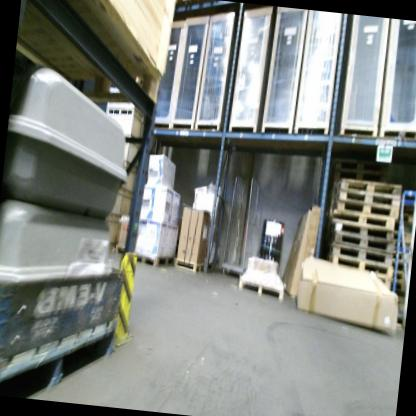pallet: (0, 310, 120, 406), (238, 265, 288, 303), (332, 184, 404, 210), (332, 178, 405, 201), (325, 255, 392, 279), (329, 209, 396, 232), (328, 231, 396, 252), (331, 198, 401, 216), (327, 244, 394, 262), (133, 249, 176, 272), (330, 222, 395, 237), (171, 255, 204, 276), (113, 243, 130, 258), (393, 211, 413, 223), (389, 258, 408, 270), (391, 270, 409, 281), (393, 229, 409, 240), (396, 221, 415, 230), (389, 250, 407, 258), (379, 276, 390, 289), (397, 245, 410, 251)
